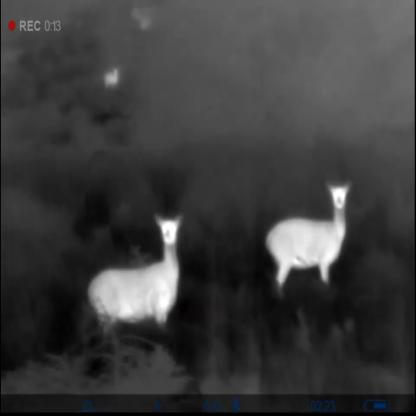rehkitze: (87, 216, 184, 338), (261, 183, 350, 294)
